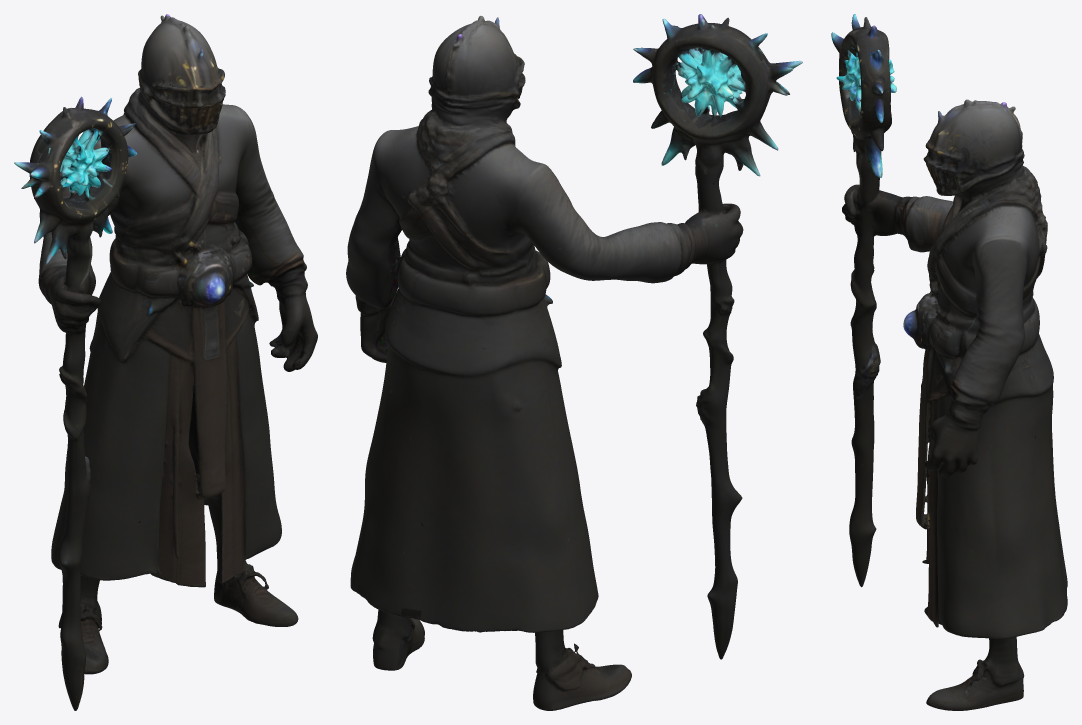
Rendered from mage2.glb.
3 renders of one model, left to right at view 1: azimuth 30°, elevation 25°; view 2: azimuth 150°, elevation 25°; view 3: azimuth 270°, elevation 25°, orthographic. The views are drawn at different scales.
Bounding box in the file's own units: 1.19 × 1.99 × 0.7457.
1 material, 1 textured.
